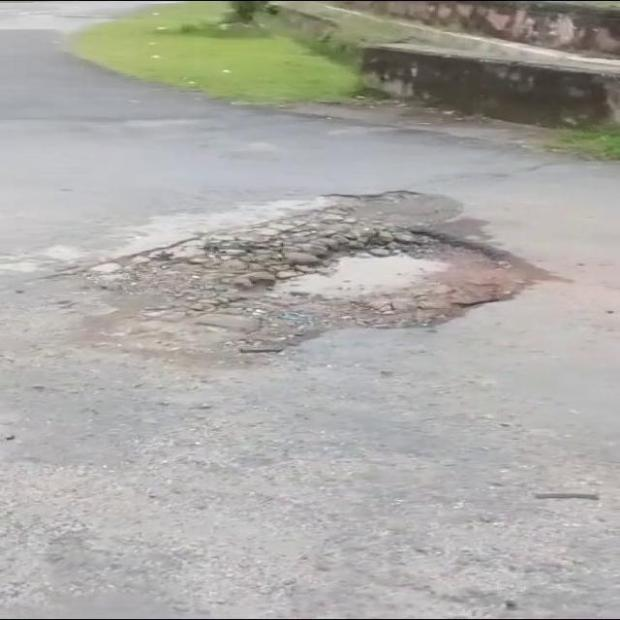lubang: (71, 191, 542, 353)
